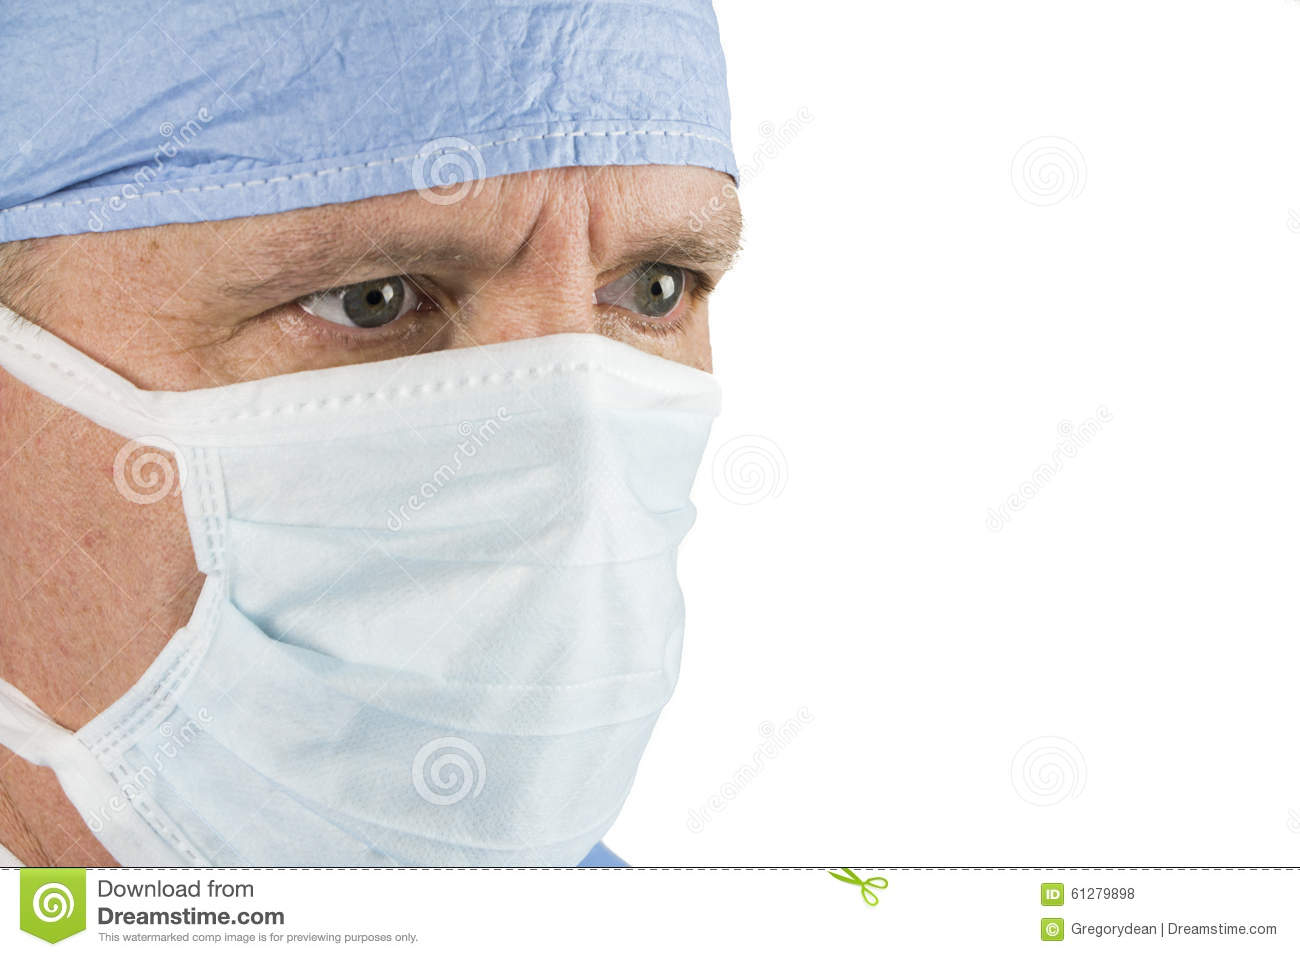mask: (123, 383, 741, 873)
